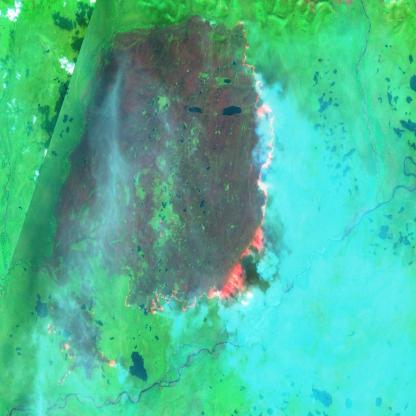fire: (145, 19, 279, 326), (43, 299, 120, 382)
